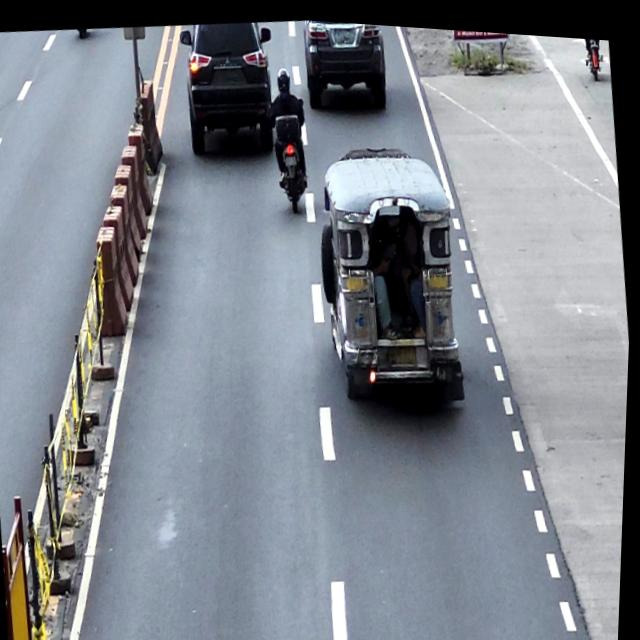Car: (175, 13, 283, 158), (299, 16, 391, 110)
Jeep: (308, 129, 476, 411)
License-Plate: (385, 336, 420, 366)
Motorcycle: (265, 91, 316, 214), (284, 150, 299, 163)
